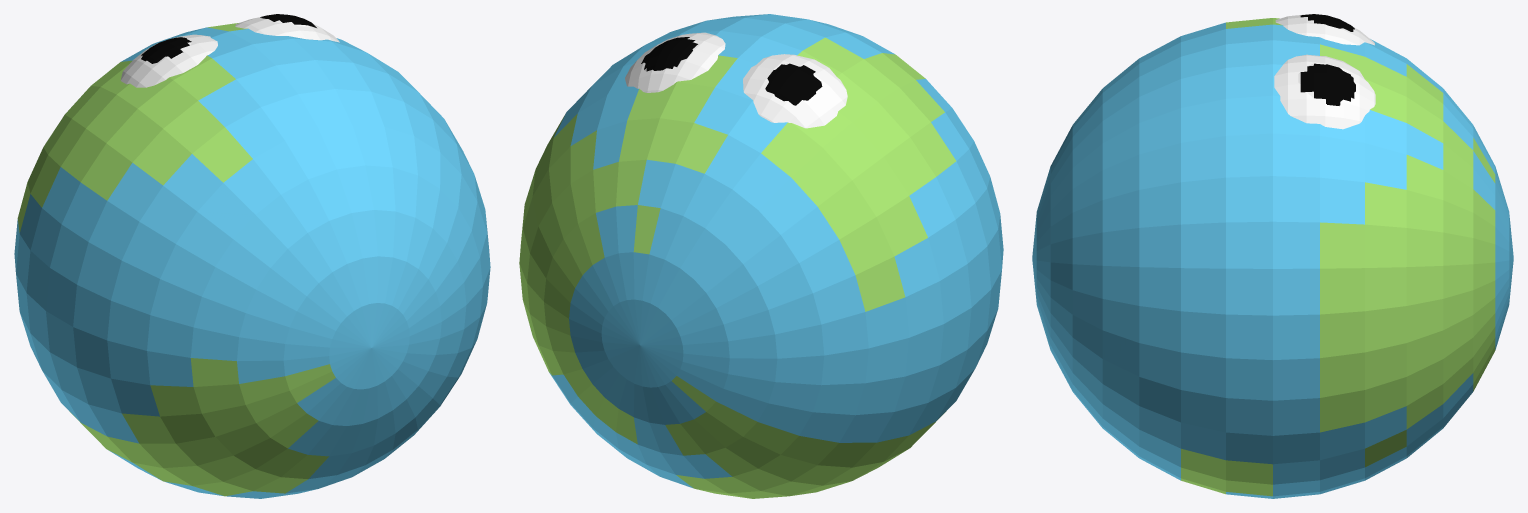
File: EarthKun2 4.fbx
3 renders of one model, left to right at view 1: azimuth 30°, elevation 25°; view 2: azimuth 150°, elevation 25°; view 3: azimuth 270°, elevation 25°, orthographic.
Visible parts, largest first — view 1: Sphere; view 2: Sphere; view 3: Sphere.
Part boxes in pixels (x1,y1,x2,y2): Sphere: [14, 14, 490, 498]; Sphere: [519, 14, 1003, 498]; Sphere: [1032, 14, 1513, 498].
Size of the model in its own units: 200 by 200 by 200.
